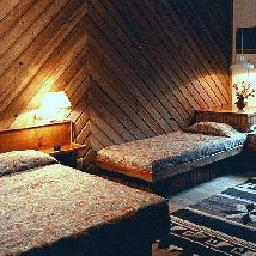Cama: (7, 149, 173, 253), (93, 123, 240, 175)
